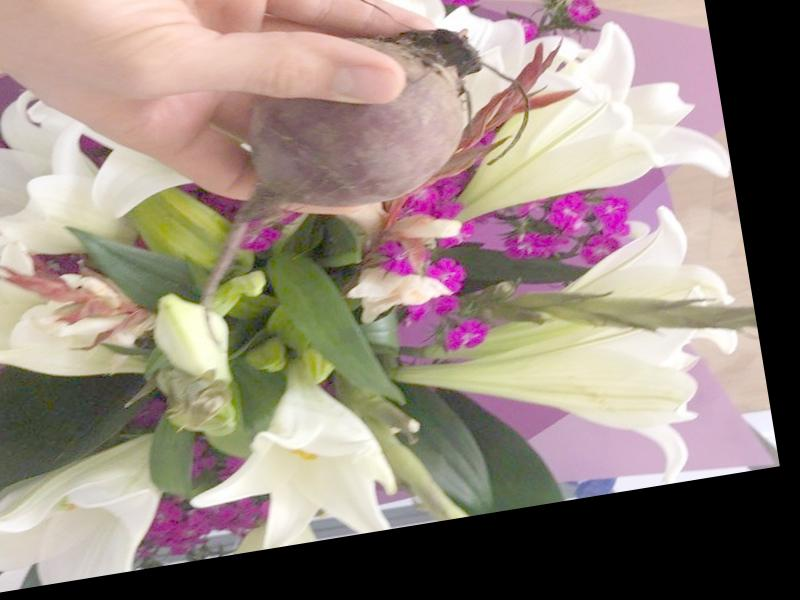Beet: (162, 12, 559, 350)
